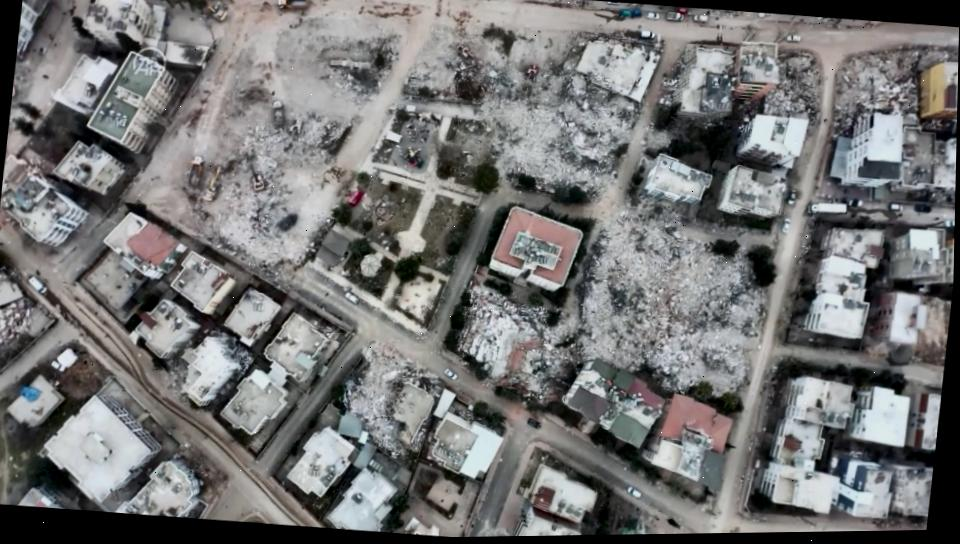kapali: (519, 185, 631, 412), (175, 197, 324, 305)
